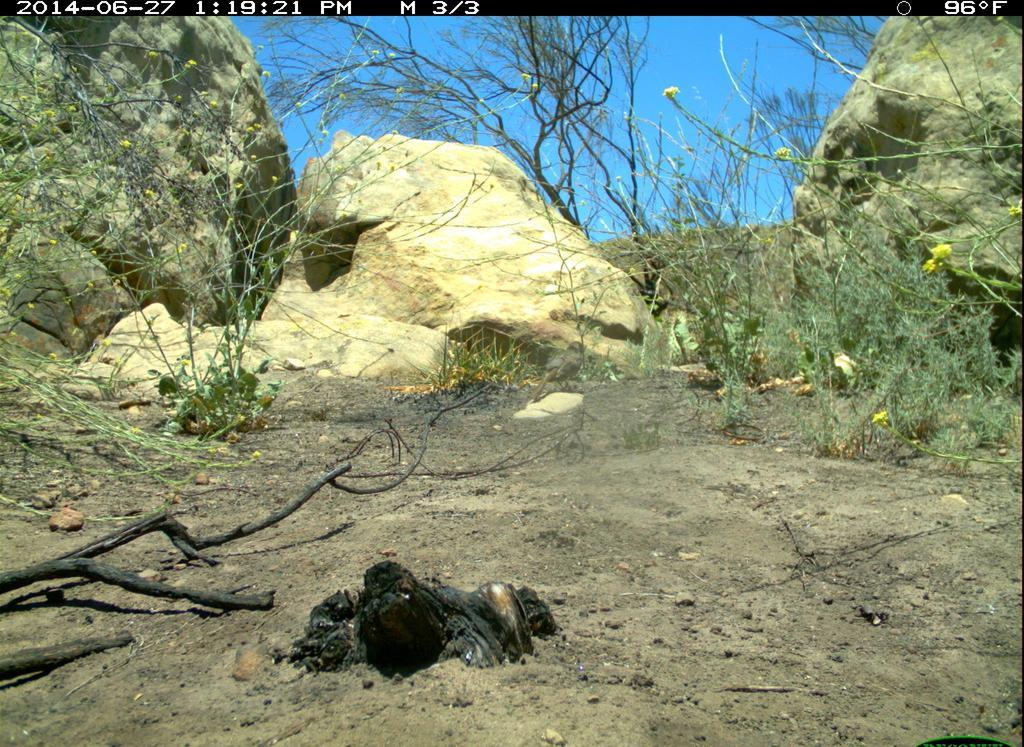bird: (525, 335, 588, 406)
